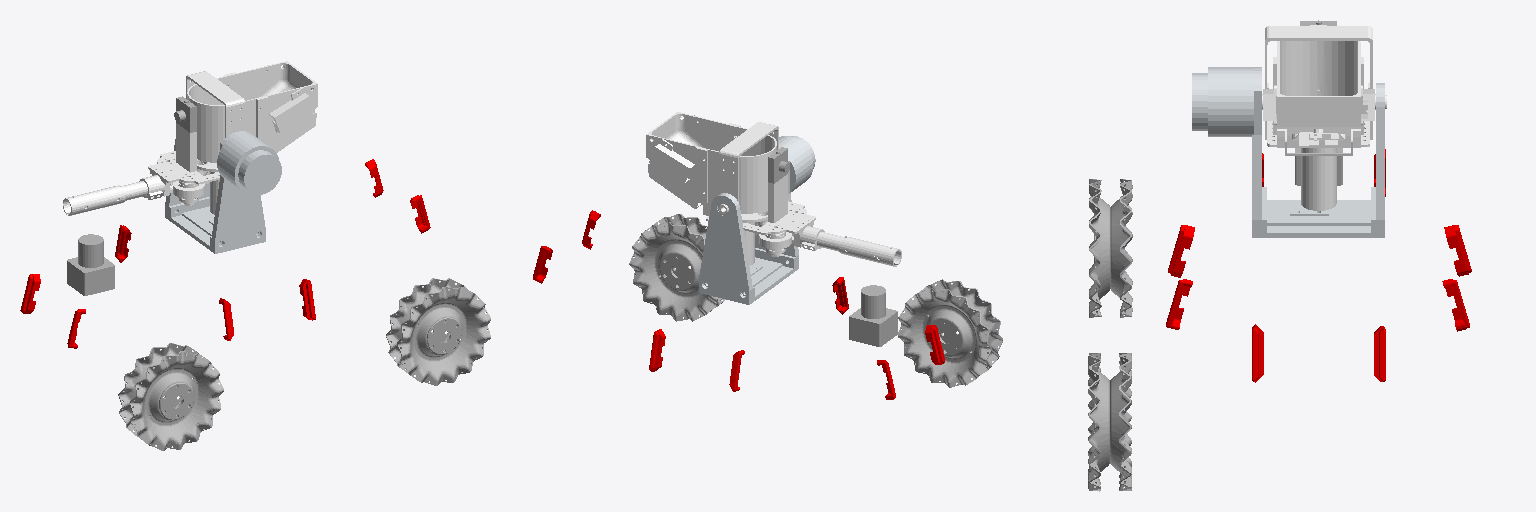
robot.urdf — infantryb:
<robot
  name="infantryb">
  <link
    name="base_link">
    <inertial>
      <origin
        xyz="-0.025782 -8.2911E-05 0.025311"
        rpy="0 0 0" />
      <mass
        value="7.625" />
      <inertia
        ixx="0.10311"
        ixy="-9.0391E-05"
        ixz="0.0071078"
        iyy="0.24575"
        iyz="2.1083E-05"
        izz="0.32438" />
    </inertial>
    <visual>
      <origin
        xyz="0 0 0"
        rpy="0 0 0" />
      <geometry>
        <mesh
          filename="package://infantryb/meshes/base_link.STL" />
      </geometry>
      <material
        name="">
        <color
          rgba="0 0 0 1" />
      </material>
    </visual>
    <collision>
      <origin
        xyz="0 0 0"
        rpy="0 0 0" />
      <geometry>
        <mesh
          filename="package://infantryb/meshes/base_link.STL" />
      </geometry>
    </collision>
  </link>
  <link
    name="fl_wheel_Link">
    <inertial>
      <origin
        xyz="-5.232E-06 0.014616 -9.0427E-06"
        rpy="0 0 0" />
      <mass
        value="0.86078" />
      <inertia
        ixx="0.0015361"
        ixy="1.6456E-06"
        ixz="-2.0131E-06"
        iyy="0.002844"
        iyz="-9.5351E-07"
        izz="0.0015337" />
    </inertial>
    <visual>
      <origin
        xyz="0 0 0"
        rpy="0 0 0" />
      <geometry>
        <mesh
          filename="package://infantryb/meshes/fl_wheel_Link.STL" />
      </geometry>
      <material
        name="">
        <color
          rgba="0.75294 0.75294 0.75294 1" />
      </material>
    </visual>
    <collision>
      <origin
        xyz="0 0 0"
        rpy="0 0 0" />
      <geometry>
        <mesh
          filename="package://infantryb/meshes/fl_wheel_Link.STL" />
      </geometry>
    </collision>
  </link>
  <joint
    name="base_link_to_fl_wheel_joint"
    type="continuous">
    <origin
      xyz="-0.21206 -0.2003 0.0022"
      rpy="4.8881E-16 -3.6891E-17 -3.1416" />
    <parent
      link="base_link" />
    <child
      link="fl_wheel_Link" />
    <axis
      xyz="0 1 0" />
  </joint>
  <link
    name="fr_wheel_Link">
    <inertial>
      <origin
        xyz="0.00010086 -0.014551 4.8285E-05"
        rpy="0 0 0" />
      <mass
        value="0.86078" />
      <inertia
        ixx="0.0015355"
        ixy="4.8831E-07"
        ixz="1.8067E-06"
        iyy="0.002844"
        iyz="9.4618E-08"
        izz="0.0015338" />
    </inertial>
    <visual>
      <origin
        xyz="0 0 0"
        rpy="0 0 0" />
      <geometry>
        <mesh
          filename="package://infantryb/meshes/fr_wheel_Link.STL" />
      </geometry>
      <material
        name="">
        <color
          rgba="0.79216 0.81961 0.93333 1" />
      </material>
    </visual>
    <collision>
      <origin
        xyz="0 0 0"
        rpy="0 0 0" />
      <geometry>
        <mesh
          filename="package://infantryb/meshes/fr_wheel_Link.STL" />
      </geometry>
    </collision>
  </link>
  <joint
    name="base_link_to_fr_wheel_joint"
    type="continuous">
    <origin
      xyz="-0.21206 0.2009 0.0022"
      rpy="6.9321E-17 -3.6891E-17 -3.1416" />
    <parent
      link="base_link" />
    <child
      link="fr_wheel_Link" />
    <axis
      xyz="0 -1 0" />
  </joint>
  <link
    name="br_wheel_Link">
    <inertial>
      <origin
        xyz="-5.2323E-06 -0.014549 -9.0423E-06"
        rpy="0 0 0" />
      <mass
        value="0.86078" />
      <inertia
        ixx="0.0015361"
        ixy="1.6481E-06"
        ixz="-2.0131E-06"
        iyy="0.002844"
        iyz="-9.4912E-07"
        izz="0.0015338" />
    </inertial>
    <visual>
      <origin
        xyz="0 0 0"
        rpy="0 0 0" />
      <geometry>
        <mesh
          filename="package://infantryb/meshes/br_wheel_Link.STL" />
      </geometry>
      <material
        name="">
        <color
          rgba="0.79216 0.81961 0.93333 1" />
      </material>
    </visual>
    <collision>
      <origin
        xyz="0 0 0"
        rpy="0 0 0" />
      <geometry>
        <mesh
          filename="package://infantryb/meshes/br_wheel_Link.STL" />
      </geometry>
    </collision>
  </link>
  <joint
    name="base_link_to_br_wheel_joint"
    type="continuous">
    <origin
      xyz="0.21194 0.2003 0.0022"
      rpy="5.7896E-17 1.5832E-16 3.1416" />
    <parent
      link="base_link" />
    <child
      link="br_wheel_Link" />
    <axis
      xyz="0 1 0" />
  </joint>
  <link
    name="bl_wheel_Link">
    <inertial>
      <origin
        xyz="0.00010086 0.014592 4.8286E-05"
        rpy="0 0 0" />
      <mass
        value="0.86078" />
      <inertia
        ixx="0.0015355"
        ixy="5.3543E-07"
        ixz="1.8067E-06"
        iyy="0.002844"
        iyz="1.1717E-07"
        izz="0.0015337" />
    </inertial>
    <visual>
      <origin
        xyz="0 0 0"
        rpy="0 0 0" />
      <geometry>
        <mesh
          filename="package://infantryb/meshes/bl_wheel_Link.STL" />
      </geometry>
      <material
        name="">
        <color
          rgba="0.75294 0.75294 0.75294 1" />
      </material>
    </visual>
    <collision>
      <origin
        xyz="0 0 0"
        rpy="0 0 0" />
      <geometry>
        <mesh
          filename="package://infantryb/meshes/bl_wheel_Link.STL" />
      </geometry>
    </collision>
  </link>
  <joint
    name="base_link_to_bl_wheel_joint"
    type="continuous">
    <origin
      xyz="0.21194 -0.2009 0.0022"
      rpy="4.8881E-16 -3.6891E-17 -3.1416" />
    <parent
      link="base_link" />
    <child
      link="bl_wheel_Link" />
    <axis
      xyz="0 -1 0" />
  </joint>
  <link
    name="yaw_Link">
    <inertial>
      <origin
        xyz="7.9767E-06 0.024936 0.059798"
        rpy="0 0 0" />
      <mass
        value="0.98307" />
      <inertia
        ixx="0.0072228"
        ixy="1.8624E-07"
        ixz="5.1373E-07"
        iyy="0.0035103"
        iyz="-0.0016193"
        izz="0.00443" />
    </inertial>
    <visual>
      <origin
        xyz="0 0 0"
        rpy="0 0 0" />
      <geometry>
        <mesh
          filename="package://infantryb/meshes/yaw_Link.STL" />
      </geometry>
      <material
        name="">
        <color
          rgba="0.89412 0.91373 0.92941 1" />
      </material>
    </visual>
    <collision>
      <origin
        xyz="0 0 0"
        rpy="0 0 0" />
      <geometry>
        <mesh
          filename="package://infantryb/meshes/yaw_Link.STL" />
      </geometry>
    </collision>
  </link>
  <joint
    name="base_link_to_yaw_joint"
    type="revolute">
    <origin
      xyz="-0.017561 0 0.1342"
      rpy="4.8881E-16 -3.6891E-17 -3.1416" />
    <parent
      link="base_link" />
    <child
      link="yaw_Link" />
    <axis
      xyz="0 0 1" />
    <limit
      lower="-1.57"
      upper="1.57"
      effort="0"
      velocity="0" />
  </joint>
  <link
    name="pitch_Link">
    <inertial>
      <origin
        xyz="-0.0024244 0.00051587 -0.011372"
        rpy="0 0 0" />
      <mass
        value="0.68228" />
      <inertia
        ixx="0.0019856"
        ixy="5.1373E-05"
        ixz="0.00087772"
        iyy="0.0042744"
        iyz="-2.4468E-05"
        izz="0.0037072" />
    </inertial>
    <visual>
      <origin
        xyz="0 0 0"
        rpy="0 0 0" />
      <geometry>
        <mesh
          filename="package://infantryb/meshes/pitch_Link.STL" />
      </geometry>
      <material
        name="">
        <color
          rgba="1 1 1 1" />
      </material>
    </visual>
    <collision>
      <origin
        xyz="0 0 0"
        rpy="0 0 0" />
      <geometry>
        <mesh
          filename="package://infantryb/meshes/pitch_Link.STL" />
      </geometry>
    </collision>
  </link>
  <joint
    name="base_link_to_pitch_joint"
    type="revolute">
    <origin
      xyz="0 0 0.125"
      rpy="-1.3809E-15 8.0654E-17 6.6834E-14" />
    <parent
      link="yaw_Link" />
    <child
      link="pitch_Link" />
    <axis
      xyz="0 1 0" />
    <limit
      lower="-0.35"
      upper="0.35"
      effort="0"
      velocity="0" />
  </joint>
  <link
    name="camera_Link">
    <inertial>
      <origin
        xyz="0.0060861 1.0269E-17 7.6833E-05"
        rpy="0 0 0" />
      <mass
        value="0.01627" />
      <inertia
        ixx="3.55E-06"
        ixy="2.3732E-22"
        ixz="1.3726E-09"
        iyy="2.0801E-06"
        iyz="6.7678E-23"
        izz="2.0554E-06" />
    </inertial>
    <visual>
      <origin
        xyz="0 0 0"
        rpy="0 0 0" />
      <geometry>
        <mesh
          filename="package://infantryb/meshes/camera_Link.STL" />
      </geometry>
      <material
        name="">
        <color
          rgba="0.75294 0.75294 0.75294 1" />
      </material>
    </visual>
    <collision>
      <origin
        xyz="0 0 0"
        rpy="0 0 0" />
      <geometry>
        <mesh
          filename="package://infantryb/meshes/camera_Link.STL" />
      </geometry>
    </collision>
  </link>
  <joint
    name="pitch_link_to_camera_wheel_joint"
    type="fixed">
    <origin
      xyz="0.041 0 0.049"
      rpy="1.3809E-15 -8.0654E-17 -6.6834E-14" />
    <parent
      link="pitch_Link" />
    <child
      link="camera_Link" />
    <axis
      xyz="0 0 0" />
  </joint>
  <link
    name="laser_Link">
    <inertial>
      <origin
        xyz="-0.00019454 1.2441E-18 0.027108"
        rpy="0 0 0" />
      <mass
        value="0.12185" />
      <inertia
        ixx="6.3159E-05"
        ixy="-9.0976E-22"
        ixz="-4.4573E-07"
        iyy="6.3776E-05"
        iyz="-1.8492E-21"
        izz="4.2072E-05" />
    </inertial>
    <visual>
      <origin
        xyz="0 0 0"
        rpy="0 0 0" />
      <geometry>
        <mesh
          filename="package://infantryb/meshes/laser_Link.STL" />
      </geometry>
      <material
        name="">
        <color
          rgba="0.75294 0.75294 0.75294 1" />
      </material>
    </visual>
    <collision>
      <origin
        xyz="0 0 0"
        rpy="0 0 0" />
      <geometry>
        <mesh
          filename="package://infantryb/meshes/laser_Link.STL" />
      </geometry>
    </collision>
  </link>
  <joint
    name="base_link_to_laser_joint"
    type="fixed">
    <origin
      xyz="-0.21456 0 0.0842"
      rpy="4.8881E-16 -3.6891E-17 -3.1416" />
    <parent
      link="base_link" />
    <child
      link="laser_Link" />
    <axis
      xyz="0 0 0" />
  </joint>
  <link
    name="led_Link">
    <inertial>
      <origin
        xyz="-0.27282 -0.063339 0.010089"
        rpy="0 0 0" />
      <mass
        value="0.028183" />
      <inertia
        ixx="0.00037048"
        ixy="7.803E-06"
        ixz="9.4378E-05"
        iyy="0.0011379"
        iyz="-1.4266E-06"
        izz="0.0014674" />
    </inertial>
    <visual>
      <origin
        xyz="0 0 0"
        rpy="0 0 0" />
      <geometry>
        <mesh
          filename="package://infantryb/meshes/led_Link.STL" />
      </geometry>
      <material
        name="">
        <color
          rgba="1 0 0 1" />
      </material>
    </visual>
    <collision>
      <origin
        xyz="0 0 0"
        rpy="0 0 0" />
      <geometry>
        <mesh
          filename="package://infantryb/meshes/led_Link.STL" />
      </geometry>
    </collision>
  </link>
  <joint
    name="base_link_to_led_joint"
    type="fixed">
    <origin
      xyz="-0.28244 -0.063339 0.061918"
      rpy="1.0523E-16 2.5064E-17 3.1416" />
    <parent
      link="base_link" />
    <child
      link="led_Link" />
    <axis
      xyz="0 0 0" />
  </joint>
</robot>

--- Facts derived from the render (not from the file) ---
Views: 3 orthographic renders of the robot side by side, from view 1: azimuth 30°, elevation 25°; view 2: azimuth 150°, elevation 25°; view 3: azimuth 270°, elevation 25°.
Robot: infantryb — 10 links, 9 joints (2 revolute, 4 continuous, 3 fixed); root link base_link; default pose: every joint at zero.
Visible links, largest first — view 1: pitch_Link, fl_wheel_Link, bl_wheel_Link, yaw_Link, led_Link, laser_Link, camera_Link; view 2: pitch_Link, fl_wheel_Link, yaw_Link, bl_wheel_Link, led_Link, laser_Link, camera_Link; view 3: pitch_Link, yaw_Link, bl_wheel_Link, fl_wheel_Link, led_Link.
Link boxes in pixels (x1,y1,x2,y2): pitch_Link: [63, 61, 317, 215]; fl_wheel_Link: [118, 343, 223, 450]; bl_wheel_Link: [386, 278, 490, 385]; yaw_Link: [165, 131, 281, 253]; led_Link: [20, 159, 430, 348]; laser_Link: [67, 234, 114, 295]; camera_Link: [174, 96, 196, 132]; pitch_Link: [646, 112, 901, 266]; fl_wheel_Link: [898, 279, 1002, 387]; yaw_Link: [699, 136, 815, 304]; bl_wheel_Link: [629, 214, 725, 321]; led_Link: [533, 210, 944, 399]; laser_Link: [849, 285, 897, 346]; camera_Link: [768, 147, 789, 183]; pitch_Link: [1262, 25, 1386, 210]; yaw_Link: [1192, 67, 1384, 237]; bl_wheel_Link: [1088, 353, 1131, 491]; fl_wheel_Link: [1089, 179, 1132, 317]; led_Link: [1166, 149, 1471, 382].
Bounding box of the posed robot: 0.5755 × 0.3958 × 0.4084 m (x, y, z).
Meshes: 10 distinct files referenced, 7 mesh visuals loaded (7 binary STL); not drawn: 3 (reference not matched to a file when rendering).